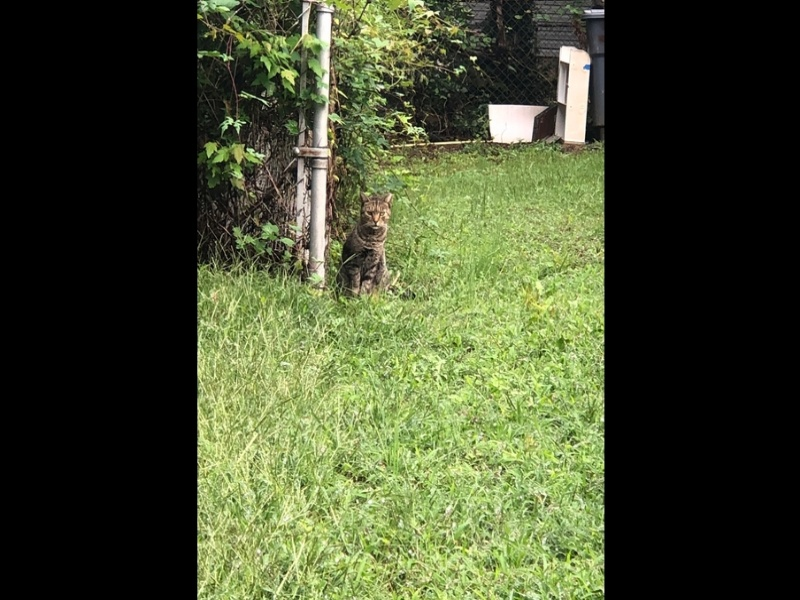cat: (334, 187, 411, 309)
